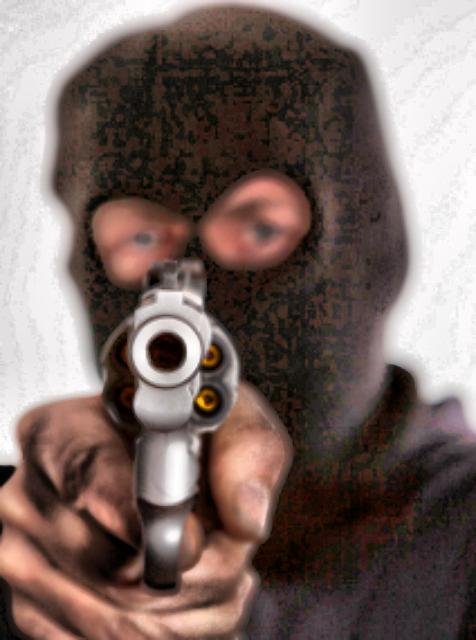pistol: (92, 252, 240, 588)
